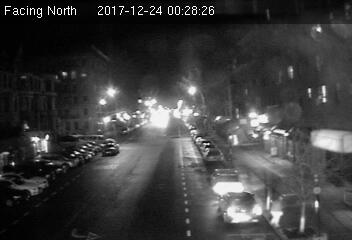car: (217, 189, 263, 225), (209, 166, 244, 194), (205, 148, 224, 164)
